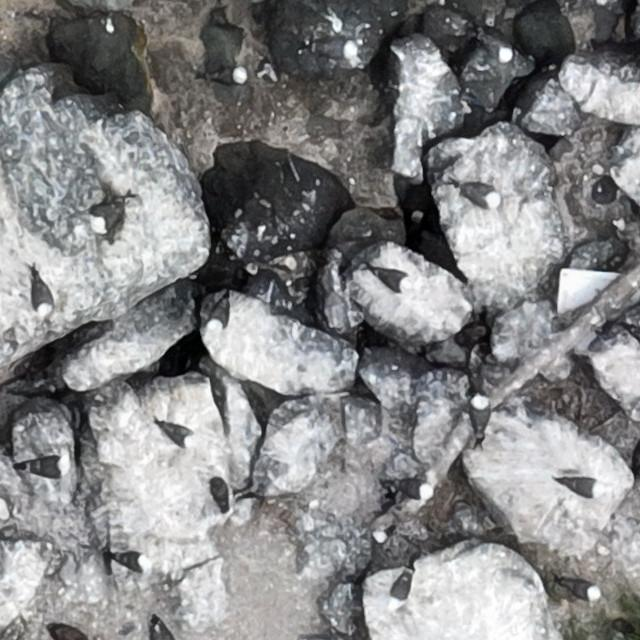umineko: (89, 198, 131, 235), (372, 266, 413, 294), (468, 394, 494, 436), (25, 454, 69, 476), (560, 578, 602, 600), (386, 577, 412, 612), (309, 39, 358, 57), (208, 296, 231, 334), (485, 35, 512, 63), (468, 186, 501, 208), (160, 424, 193, 446), (564, 477, 599, 495), (35, 280, 53, 314), (395, 481, 429, 498), (121, 553, 152, 570), (154, 622, 172, 639), (230, 66, 247, 83), (372, 530, 390, 542)
